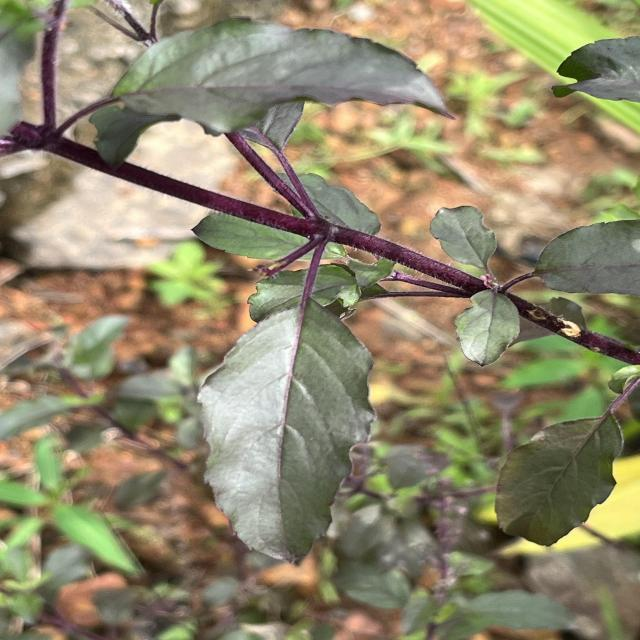Ocimum tenuiflorum: (194, 295, 381, 572), (107, 12, 461, 138)
